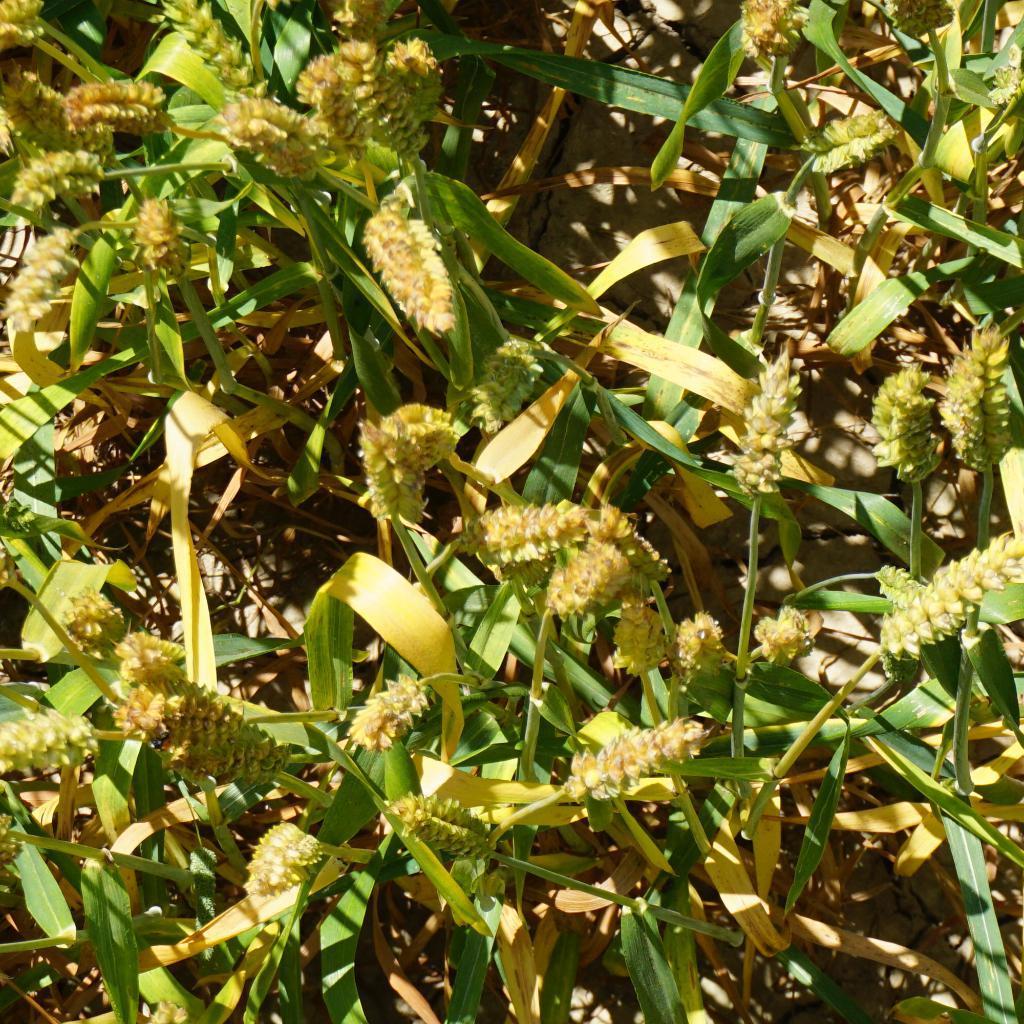0-0: (864, 530, 1016, 656), (931, 319, 1024, 481), (729, 347, 811, 504), (362, 203, 457, 335), (167, 675, 280, 784), (574, 715, 689, 804), (863, 355, 938, 491), (455, 489, 580, 567), (351, 420, 438, 524), (149, 0, 247, 92), (288, 48, 365, 157), (3, 220, 85, 318), (227, 96, 324, 177), (800, 103, 904, 176), (51, 64, 167, 129), (14, 139, 120, 210), (11, 64, 105, 144), (0, 700, 99, 775), (391, 782, 483, 854), (358, 51, 419, 156), (247, 807, 314, 901), (371, 393, 457, 466), (342, 671, 429, 742), (735, 0, 821, 65), (597, 499, 668, 576), (467, 341, 534, 422), (388, 31, 448, 119), (608, 592, 668, 679), (67, 581, 135, 651), (541, 536, 614, 601), (133, 192, 188, 275), (116, 632, 190, 687), (882, 0, 965, 46), (0, 804, 38, 884), (759, 603, 807, 662), (149, 995, 244, 1024), (115, 681, 167, 732), (979, 51, 1024, 109), (874, 561, 932, 604), (679, 617, 723, 668), (334, 0, 387, 42), (0, 3, 31, 51)
